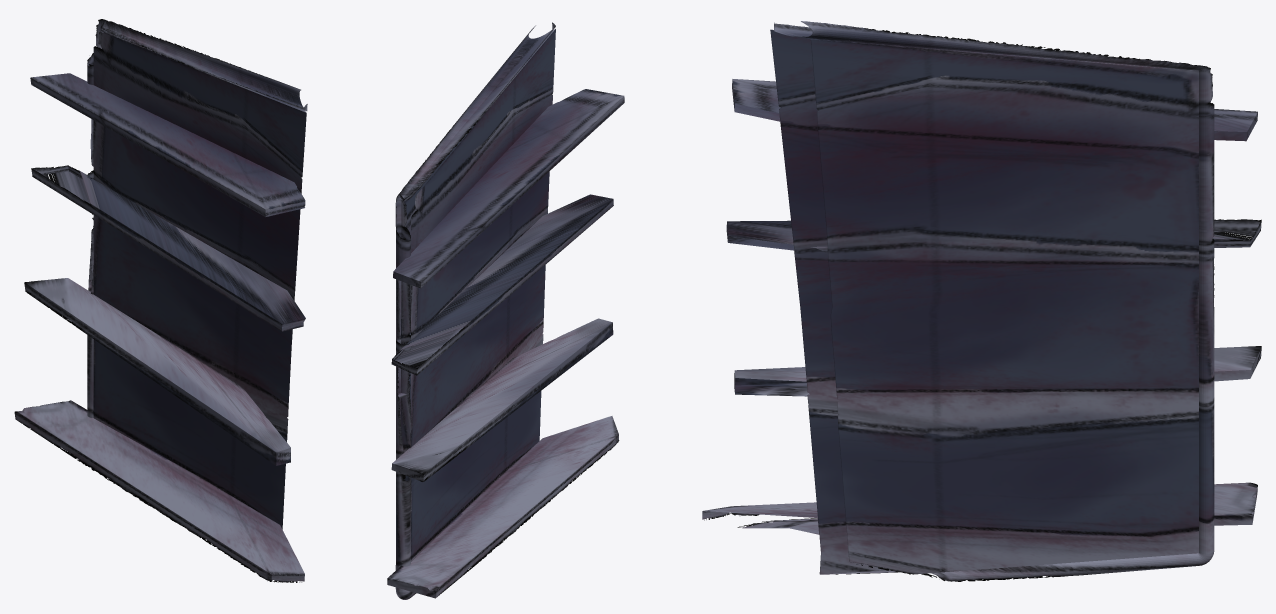
The model's file is InventorySide.fbx.
3 views of the same model, side by side, from view 1: azimuth 30°, elevation 25°; view 2: azimuth 150°, elevation 25°; view 3: azimuth 270°, elevation 25° (orthographic). The views are drawn at different scales.
Visible parts, largest first — view 1: InventorySide; view 2: InventorySide; view 3: InventorySide.
Part boxes in pixels (x1=…): InventorySide: x1=14, y1=19, x2=307, y2=582; InventorySide: x1=387, y1=22, x2=624, y2=599; InventorySide: x1=702, y1=21, x2=1261, y2=581.
Bounding box in the file's own units: 28.39 × 144 × 136.
